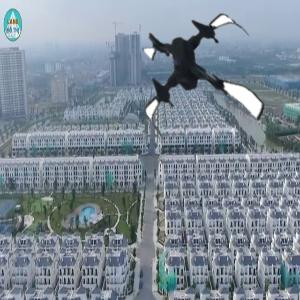drone: (130, 8, 274, 152)
